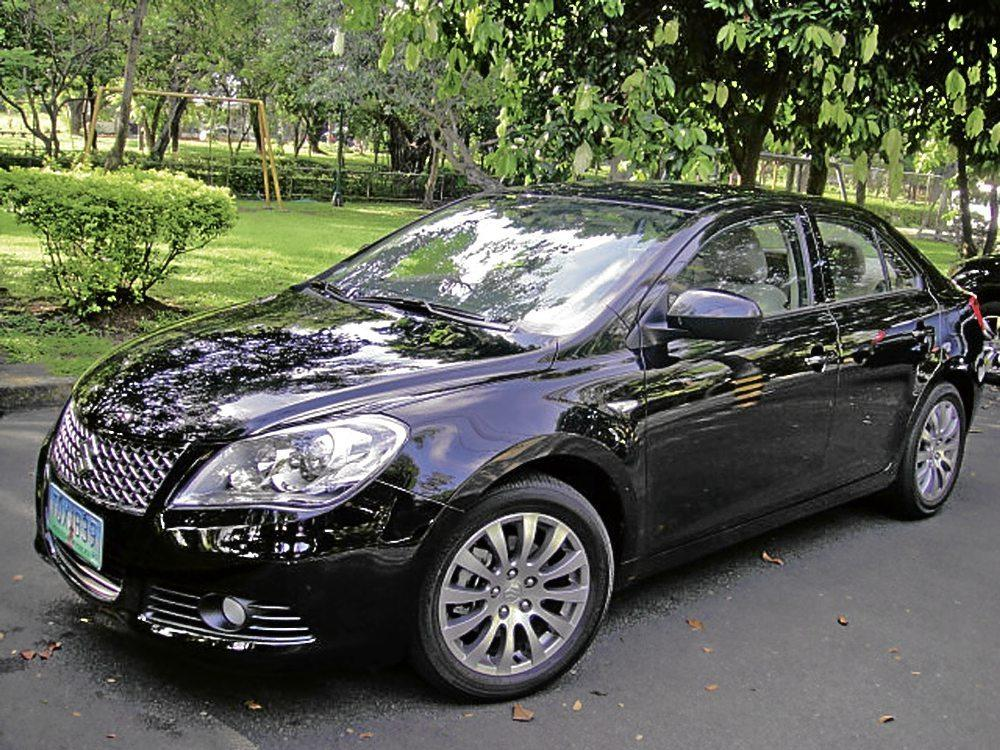suzuki: (69, 429, 110, 479)
